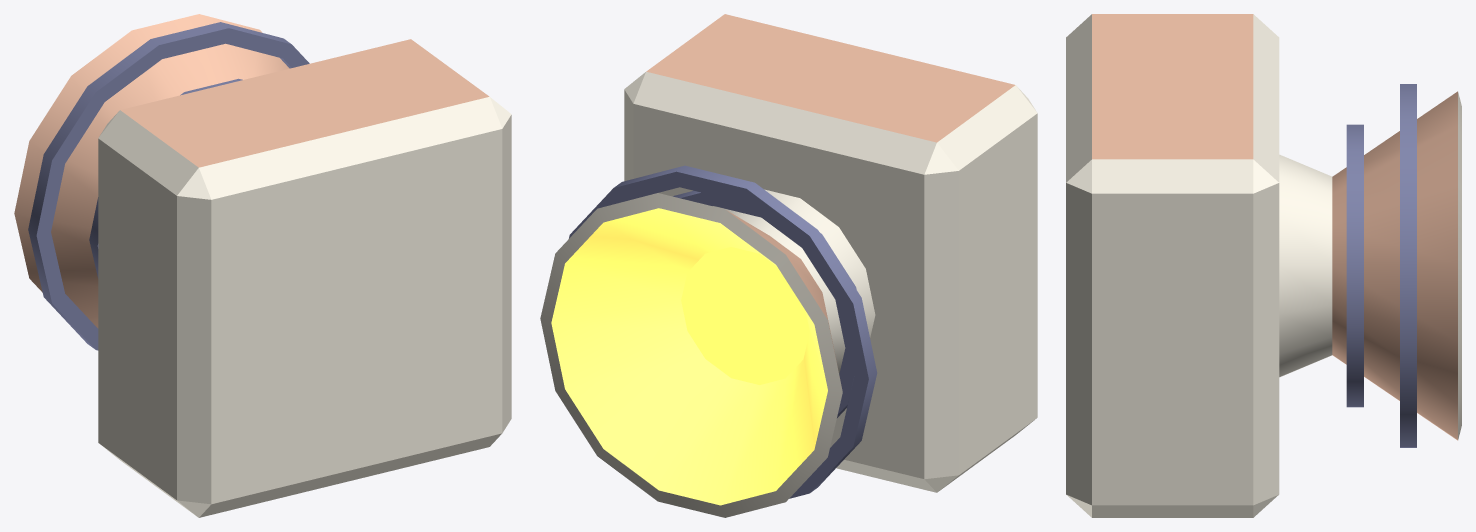
File: R4X_Booster_LOD1.fbx
3 views of the same model, side by side, from view 1: azimuth 30°, elevation 25°; view 2: azimuth 150°, elevation 25°; view 3: azimuth 270°, elevation 25° (orthographic). The views are drawn at different scales.
Visible parts, largest first — view 1: R4X_Booster_LOD1; view 2: R4X_Booster_LOD1; view 3: R4X_Booster_LOD1.
Boxes of the visible parts, <box> form: R4X_Booster_LOD1: <box>14,14,511,517</box>; R4X_Booster_LOD1: <box>540,14,1037,517</box>; R4X_Booster_LOD1: <box>1066,14,1461,517</box>.
Bounding box in the file's own units: 0.52 × 0.52 × 0.52.
